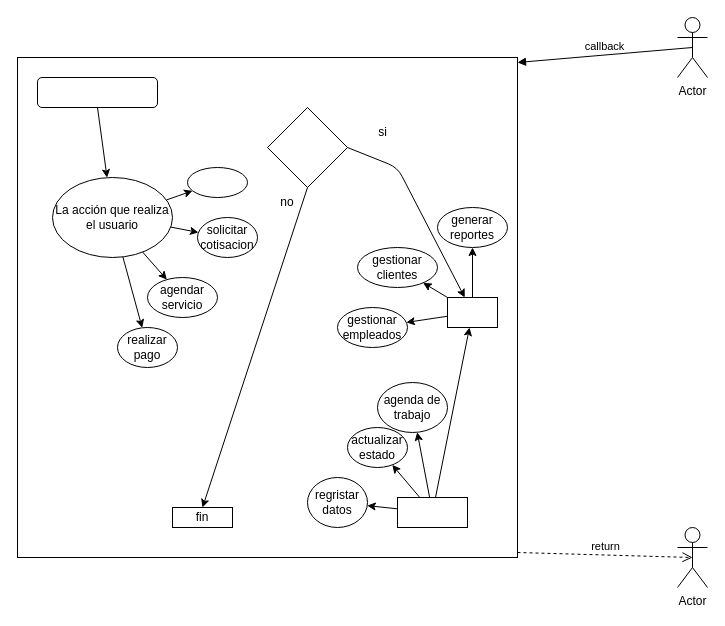
The diagram is 725 pixels wide and 626 high, and some of its shapes have lost their labels. The shapes that lost their labels are listed below. From the top down, each one's box as (x1, y1, x2, y2) in pixels, then its label:
(36, 76, 158, 108): sistema de jardineria
(266, 106, 348, 188): cliente accepta servicios
(186, 166, 248, 198): regristrarse
(446, 296, 498, 328): admin
(396, 496, 468, 528): jardinero
